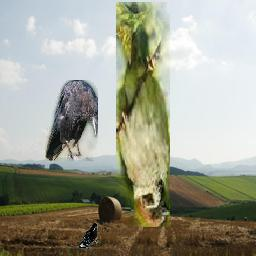Crow: (46, 81, 99, 162)
Sparrow: (116, 3, 170, 228)
Woodpecker: (77, 223, 99, 249)
